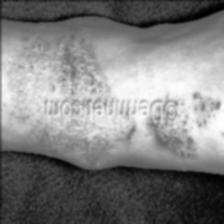Non-Cancerous Skin Condition: (0, 27, 112, 99), (67, 121, 179, 159), (185, 46, 224, 148)
